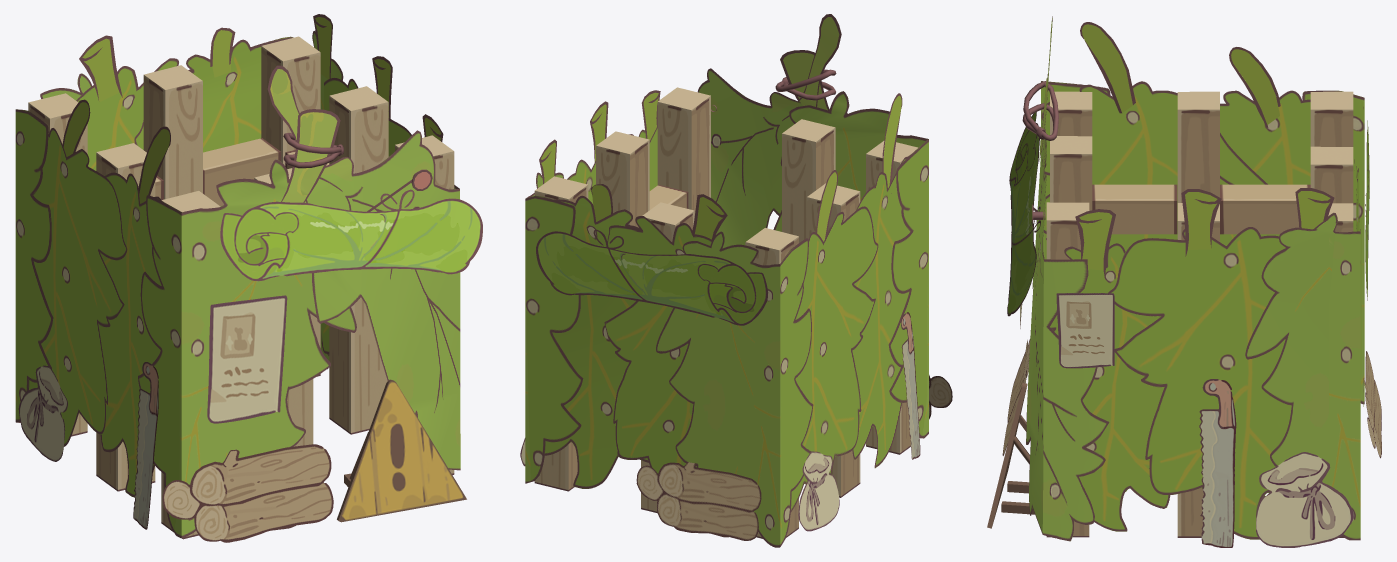
File: Mesh_Home_Construction_22_SM.fbx
The picture shows the model from 3 angles, left to right: view 1: azimuth 30°, elevation 25°; view 2: azimuth 150°, elevation 25°; view 3: azimuth 270°, elevation 25°; orthographic projection. The views are drawn at different scales.
Parts seen in each view (by area): view 1: Mesh_Home_Construction_22, Mesh_Home_Construction_22_P; view 2: Mesh_Home_Construction_22, Mesh_Home_Construction_22_P; view 3: Mesh_Home_Construction_22_P, Mesh_Home_Construction_22.
Part boxes in pixels (x1,y1,x2,y2): Mesh_Home_Construction_22: (15, 14, 466, 539); Mesh_Home_Construction_22_P: (18, 35, 482, 542); Mesh_Home_Construction_22: (525, 14, 928, 547); Mesh_Home_Construction_22_P: (520, 90, 952, 540); Mesh_Home_Construction_22_P: (1002, 81, 1381, 547); Mesh_Home_Construction_22: (987, 16, 1364, 541).
Bounding box in the file's own units: 211 × 281 × 226.
1 material, 1 textured.
